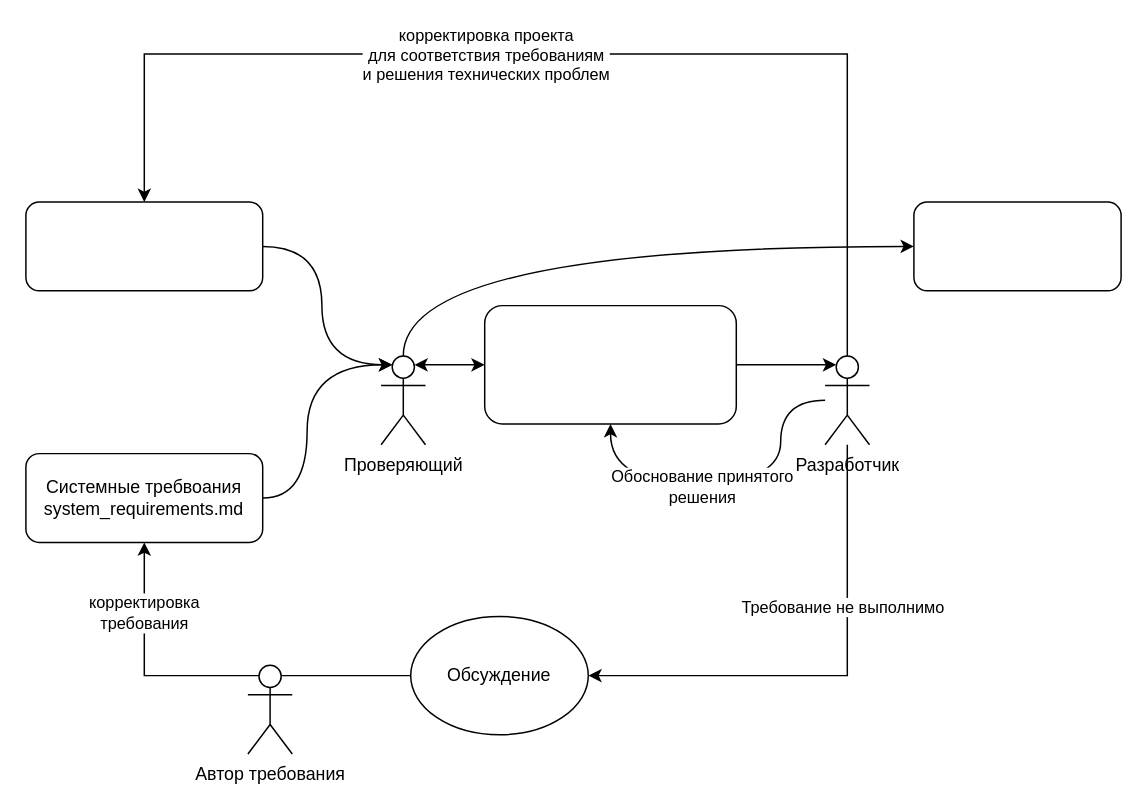
Some shapes in this 1147 by 811 pixel diagram are drawn without their labels. The shapes that lost their labels are listed below. From the top down, each one's box as (x1, y1, x2, y2) in pixels, then its label:
(24, 201, 263, 291): проект САПР в git
(912, 201, 1121, 291): Решение о передаче в производство
(483, 304, 736, 424): issue по техническим проблемам/несоответствиям
